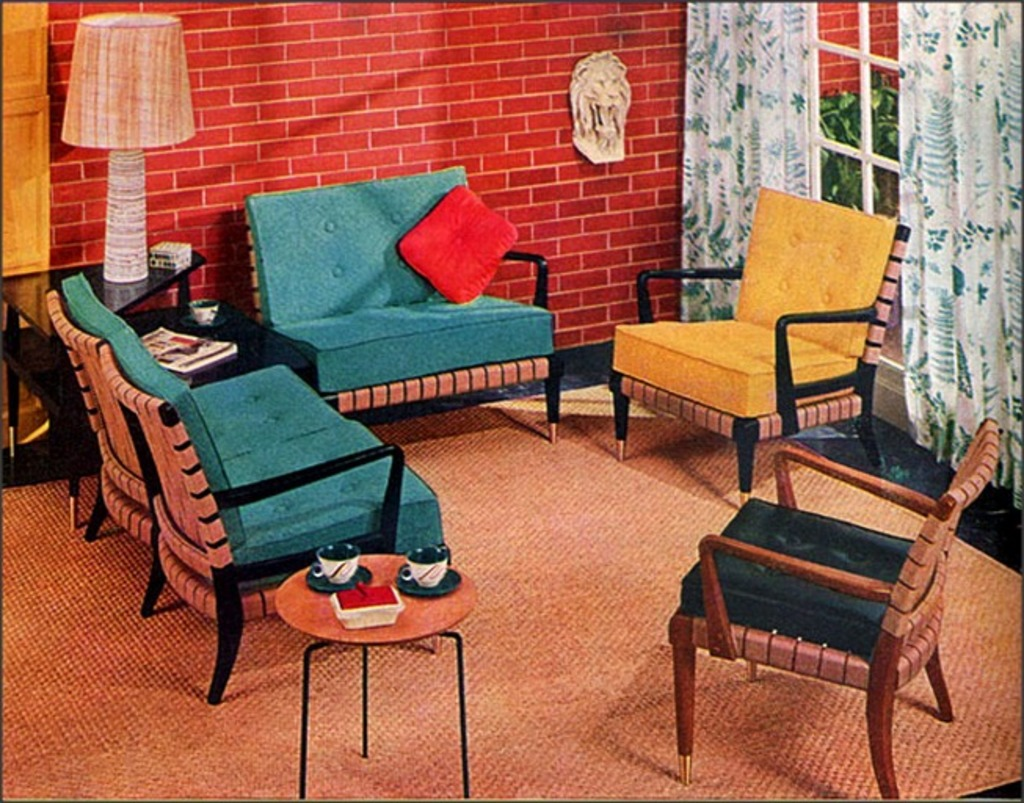Couch: (31, 251, 463, 640), (238, 163, 565, 445)
